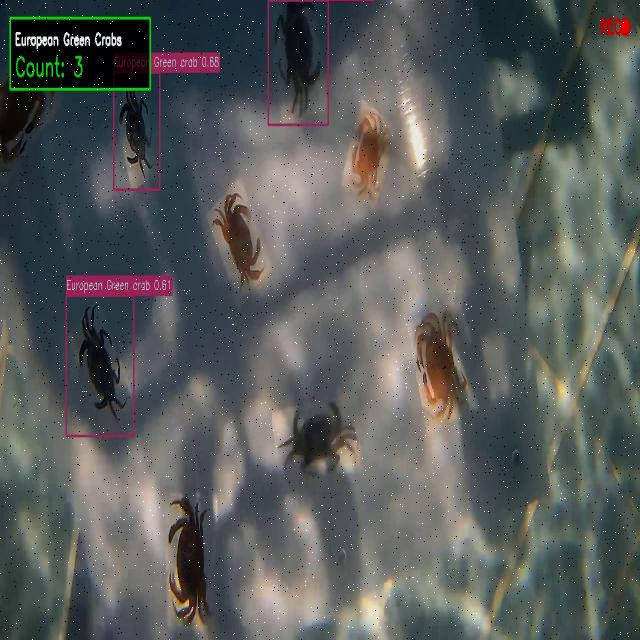European_Green_Crab: (61, 302, 140, 440), (269, 383, 357, 495), (112, 90, 165, 195)
